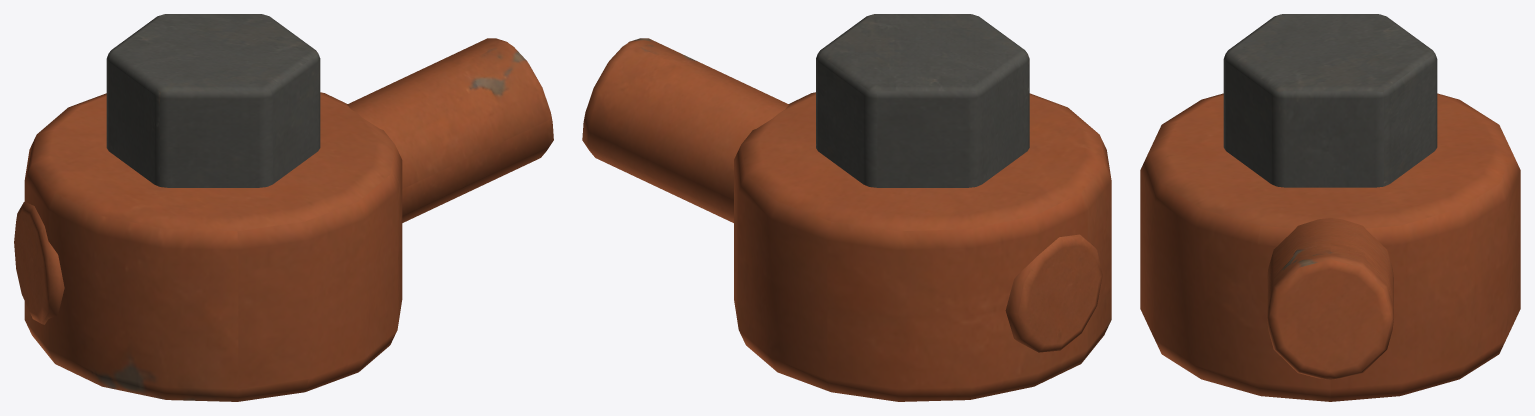
Rendered from SM_IntakeDemo_ValveHandle_Broken.fbx.
3 views of the same model, side by side, from view 1: azimuth 30°, elevation 25°; view 2: azimuth 150°, elevation 25°; view 3: azimuth 270°, elevation 25° (orthographic).
Parts seen in each view (by area): view 1: SM_IntakeDemo_ValveHandle_Broken; view 2: SM_IntakeDemo_ValveHandle_Broken; view 3: SM_IntakeDemo_ValveHandle_Broken.
Part boxes in pixels (box(x1,y1,x2,y2)): SM_IntakeDemo_ValveHandle_Broken: box(14, 14, 553, 401); SM_IntakeDemo_ValveHandle_Broken: box(582, 14, 1111, 401); SM_IntakeDemo_ValveHandle_Broken: box(1140, 14, 1520, 401).
Size of the model in its own units: 18.24 by 12.2 by 9.95.
